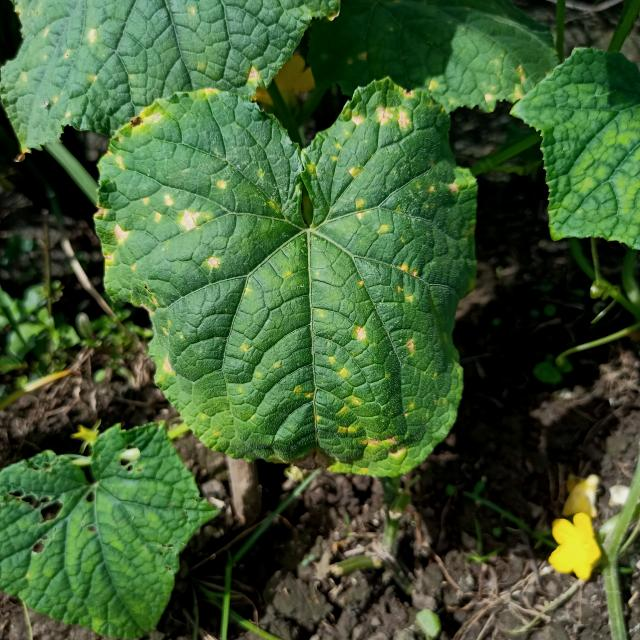disease_cucumber: (94, 81, 462, 475), (23, 26, 100, 121)
